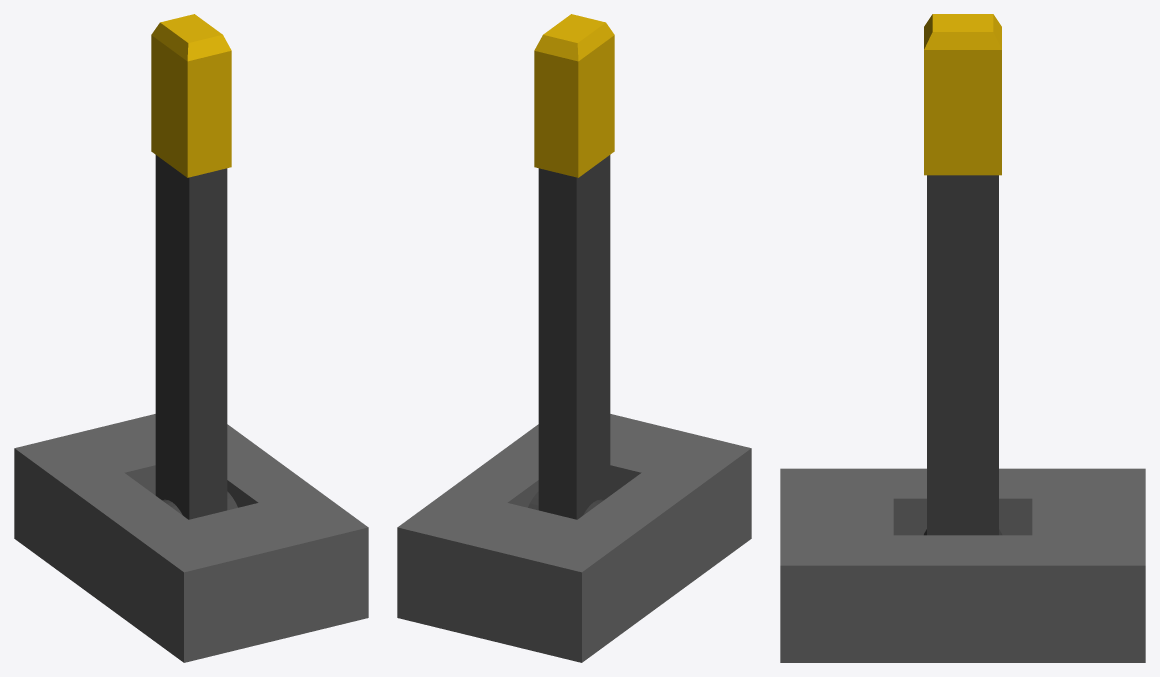
The model's file is YellowLeverWB.glb.
The picture shows the model from 3 angles, left to right: view 1: azimuth 30°, elevation 25°; view 2: azimuth 150°, elevation 25°; view 3: azimuth 270°, elevation 25°; orthographic projection. The views are drawn at different scales.
Parts seen in each view (by area): view 1: Base, Handle, Top; view 2: Base, Handle, Top; view 3: Base, Handle, Top.
Boxes of the visible parts, x1,y1,x2,y2 form: Base: (14, 414, 368, 662); Handle: (155, 155, 237, 519); Top: (151, 14, 231, 177); Base: (397, 414, 751, 662); Handle: (528, 155, 610, 519); Top: (534, 14, 614, 177); Base: (780, 468, 1145, 662); Handle: (924, 175, 1001, 535); Top: (924, 14, 1001, 175).
Size of the model in its own units: 0.38 by 1.08 by 0.6054.
